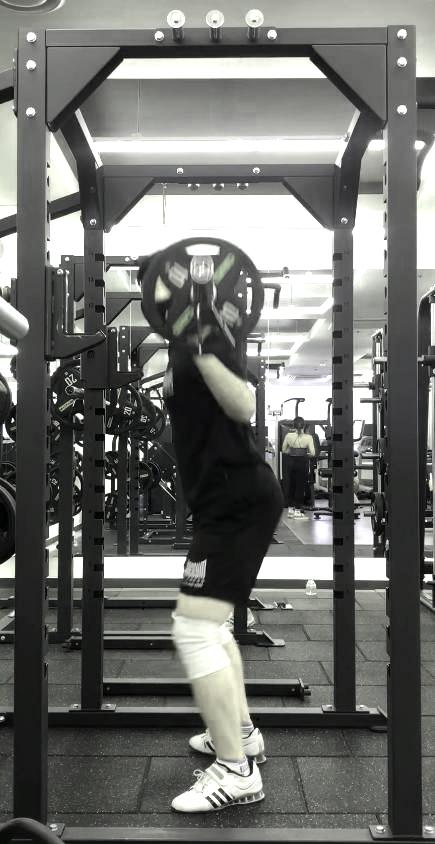Barbell: (188, 254, 217, 284)
